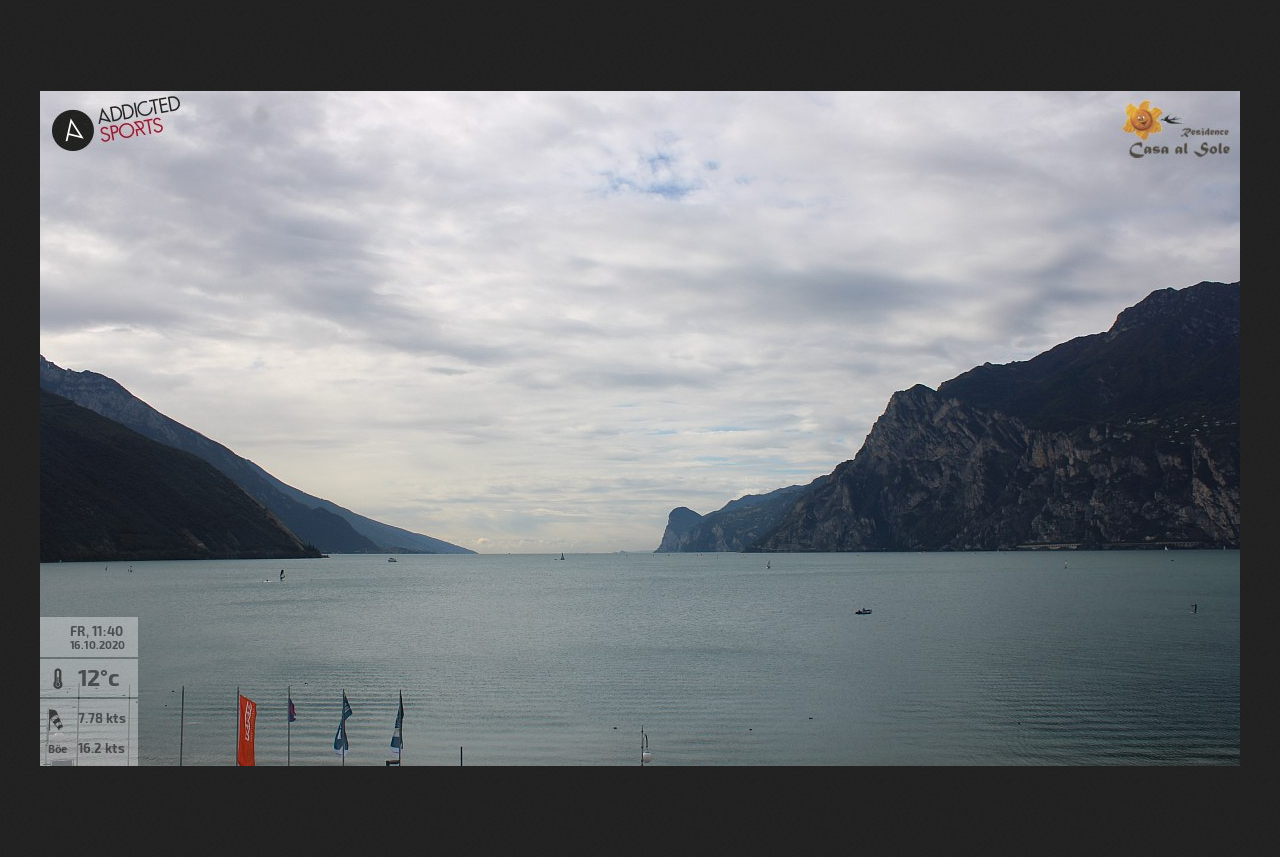no: (286, 693, 301, 723)
